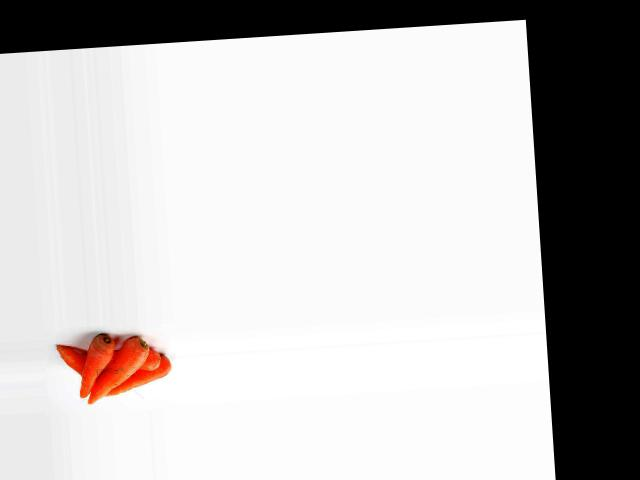carrot: (74, 332, 119, 397)
